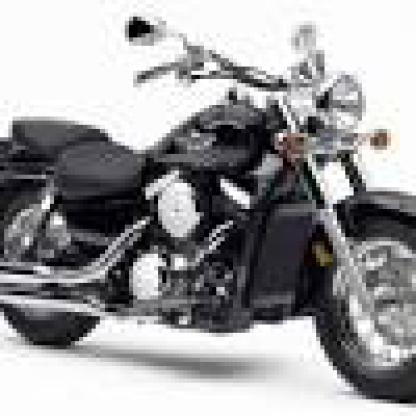Motorcycle: (0, 9, 412, 404)
